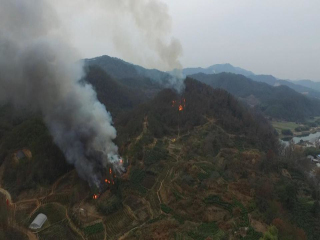smoke: (1, 1, 190, 190)
